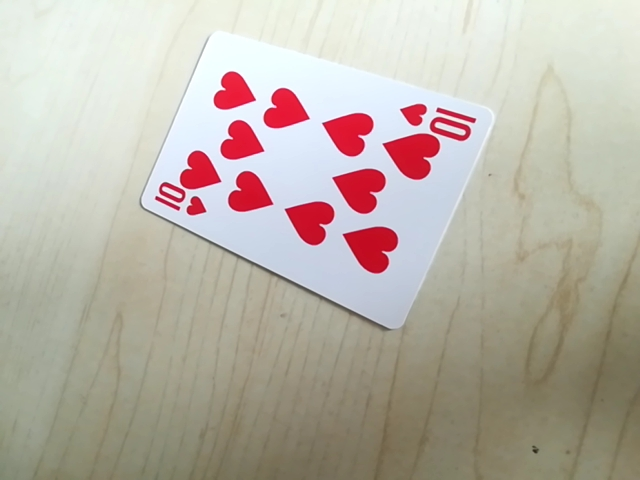hx 10: (393, 98, 482, 136), (149, 187, 208, 221)
